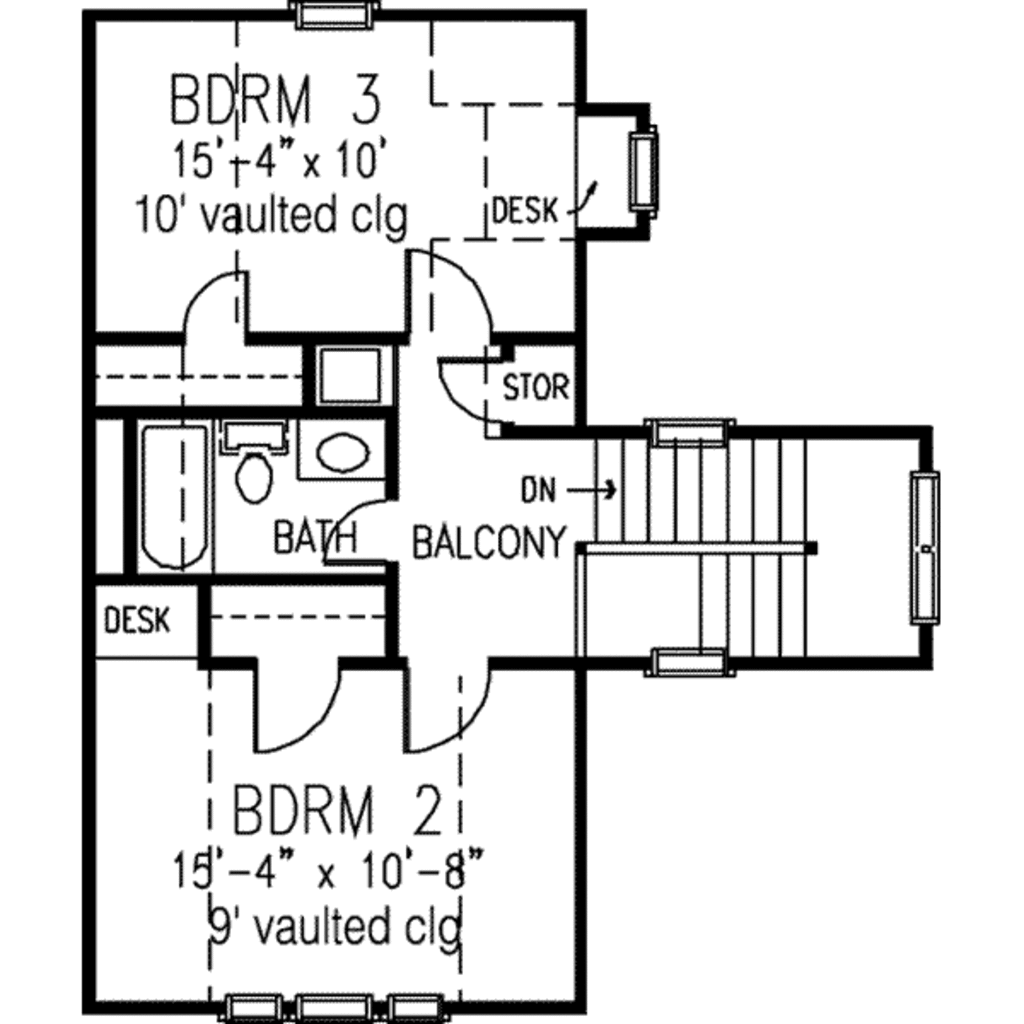door: (158, 255, 273, 338), (394, 247, 495, 337), (396, 661, 496, 751), (251, 656, 338, 751), (433, 342, 528, 428), (316, 492, 421, 568)
large_sink: (222, 414, 297, 512)
small_sink: (294, 415, 392, 486)
stairs: (577, 439, 865, 656)
tub: (130, 414, 218, 566)
window: (224, 986, 449, 1024), (905, 470, 948, 627), (623, 121, 664, 218), (646, 641, 730, 684), (291, 2, 394, 31), (645, 414, 736, 446)
